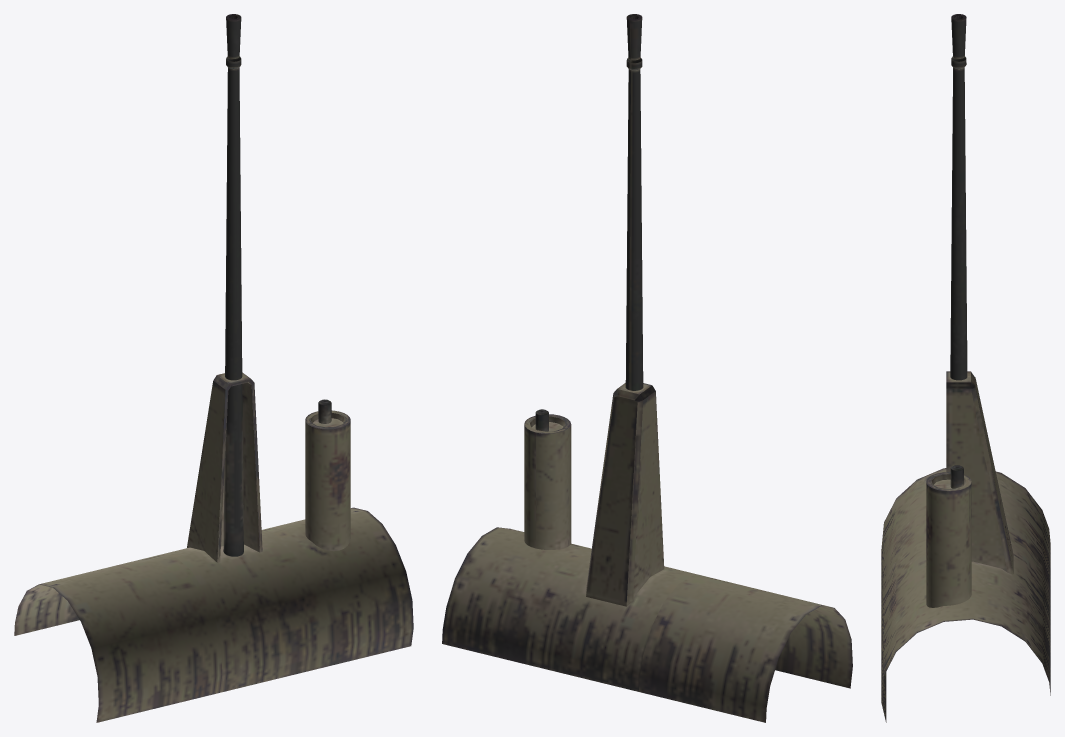
File: Gun_01.glb
3 views of the same model, side by side, from view 1: azimuth 30°, elevation 25°; view 2: azimuth 150°, elevation 25°; view 3: azimuth 270°, elevation 25° (orthographic). The views are drawn at different scales.
Parts seen in each view (by area): view 1: set_0_group_0; view 2: set_0_group_0; view 3: set_0_group_0.
Boxes of the visible parts, box(x1,y1,x2,y2) form: set_0_group_0: box(14, 14, 413, 722); set_0_group_0: box(442, 14, 852, 722); set_0_group_0: box(881, 14, 1050, 722).
Bounding box in the file's own units: 0.8801 × 1.7 × 0.4093.
Materials: 1 (1 with a texture image).
